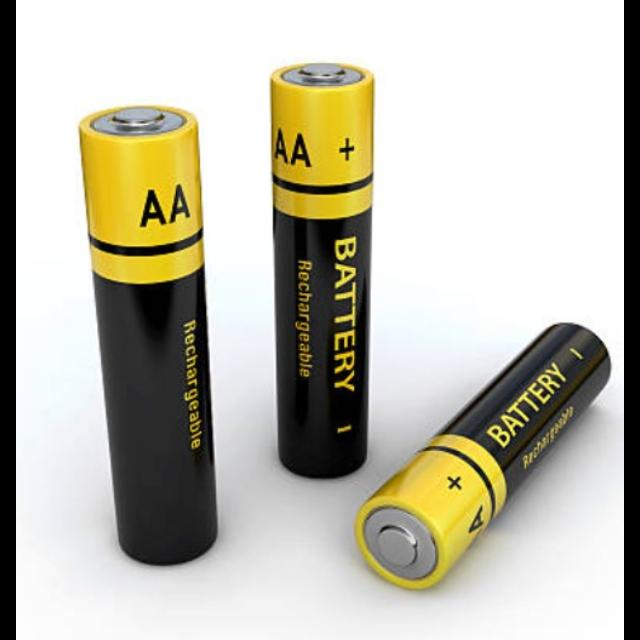Battery: (357, 324, 612, 590), (79, 105, 217, 565), (272, 63, 375, 479)
